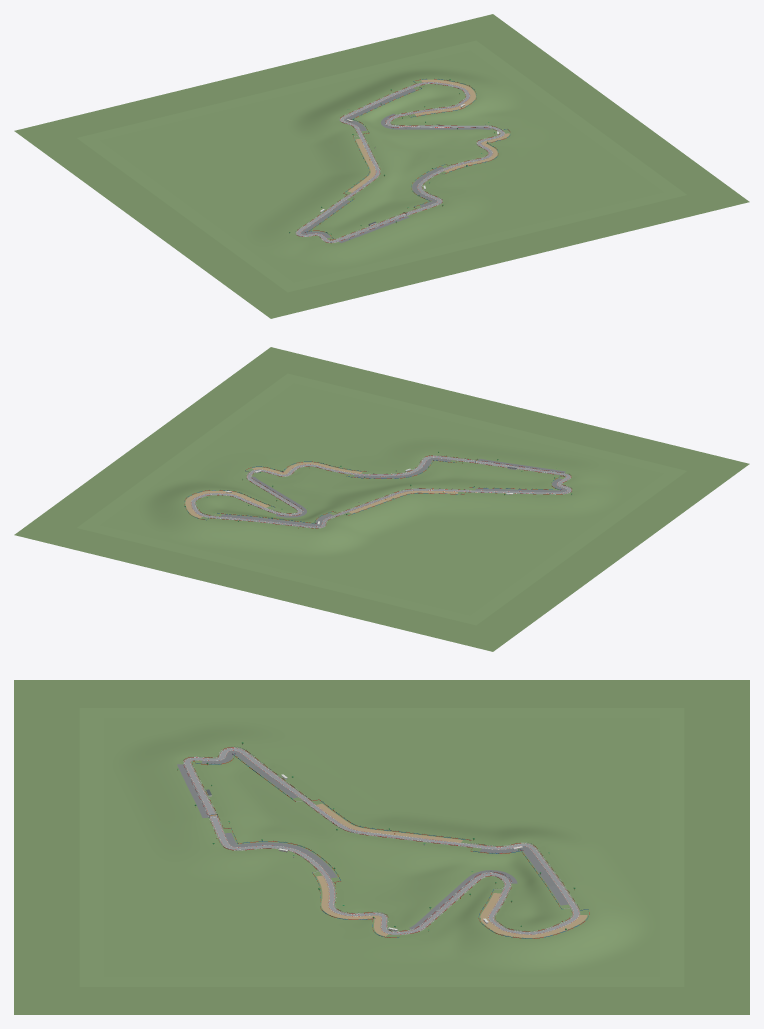
Rendered from istanbul.glb.
3 renders of one model, top to bottom at view 1: azimuth 30°, elevation 25°; view 2: azimuth 150°, elevation 25°; view 3: azimuth 270°, elevation 25°, orthographic. The views are drawn at different scales.
Visible parts, largest first — view 1: terrain_infield, terrain_outskirts, terrain_verge, track_surface, asphalt_runoff_zones, continuous_safety_barriers, track_runoff, gravel_runoff_zones, track_embankment; view 2: terrain_infield, terrain_outskirts, terrain_verge, track_surface, asphalt_runoff_zones, continuous_safety_barriers, track_runoff, gravel_runoff_zones, track_embankment; view 3: terrain_infield, terrain_outskirts, terrain_verge, track_surface, asphalt_runoff_zones, gravel_runoff_zones, track_runoff, continuous_safety_barriers, track_embankment, track_curbs.
Boxes of the visible parts, x1,y1,x2,y2 form: terrain_infield: [100, 50, 663, 282]; terrain_outskirts: [14, 14, 749, 318]; terrain_verge: [77, 40, 686, 292]; track_surface: [296, 82, 504, 242]; asphalt_runoff_zones: [300, 88, 491, 242]; continuous_safety_barriers: [297, 79, 509, 243]; track_runoff: [295, 81, 505, 242]; gravel_runoff_zones: [348, 79, 509, 192]; track_embankment: [295, 82, 505, 243]; terrain_infield: [100, 383, 663, 615]; terrain_outskirts: [14, 347, 749, 651]; terrain_verge: [77, 373, 686, 625]; track_surface: [191, 456, 570, 527]; asphalt_runoff_zones: [221, 458, 566, 526]; continuous_safety_barriers: [184, 455, 571, 528]; track_runoff: [190, 455, 571, 528]; gravel_runoff_zones: [185, 462, 457, 518]; track_embankment: [195, 455, 572, 528]; terrain_infield: [103, 718, 660, 976]; terrain_outskirts: [14, 680, 749, 1014]; terrain_verge: [79, 708, 684, 986]; track_surface: [184, 748, 578, 934]; asphalt_runoff_zones: [177, 750, 569, 929]; gravel_runoff_zones: [316, 803, 587, 937]; track_runoff: [183, 747, 580, 934]; continuous_safety_barriers: [183, 747, 589, 938]; track_embankment: [182, 747, 581, 935]; track_curbs: [184, 748, 579, 934].
Bounding box in the file's own units: 2650 × 50.37 × 2461.
